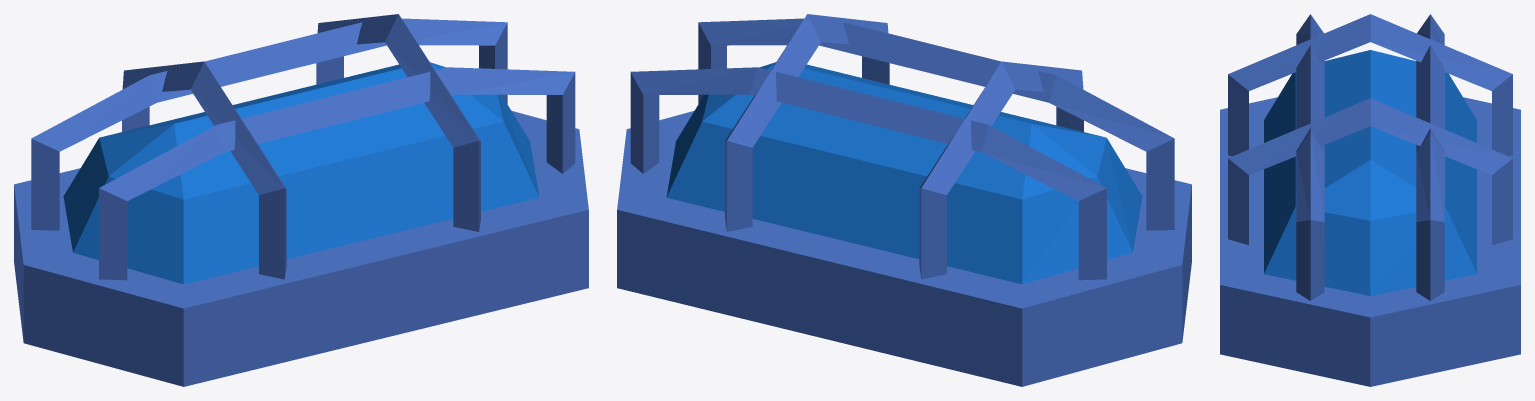
Rendered from SM_emergency_light.fbx.
3 renders of one model, left to right at view 1: azimuth 30°, elevation 25°; view 2: azimuth 150°, elevation 25°; view 3: azimuth 270°, elevation 25°, orthographic. The views are drawn at different scales.
Visible parts, largest first — view 1: emergency_light; view 2: emergency_light; view 3: emergency_light.
Boxes of the visible parts, x1,y1,x2,y2 form: emergency_light: [14, 14, 588, 386]; emergency_light: [617, 14, 1191, 386]; emergency_light: [1220, 14, 1520, 386].
Bounding box in the file's own units: 23.57 × 9.64 × 12.47.
